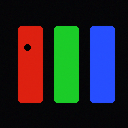0 point: (24, 44, 30, 50)
